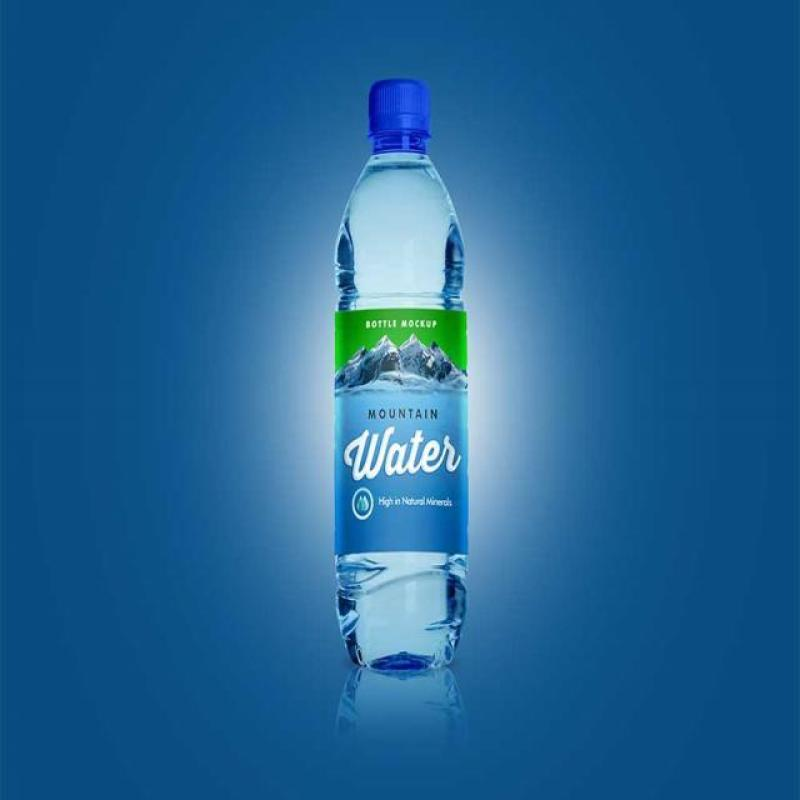botella: (334, 77, 468, 672)
